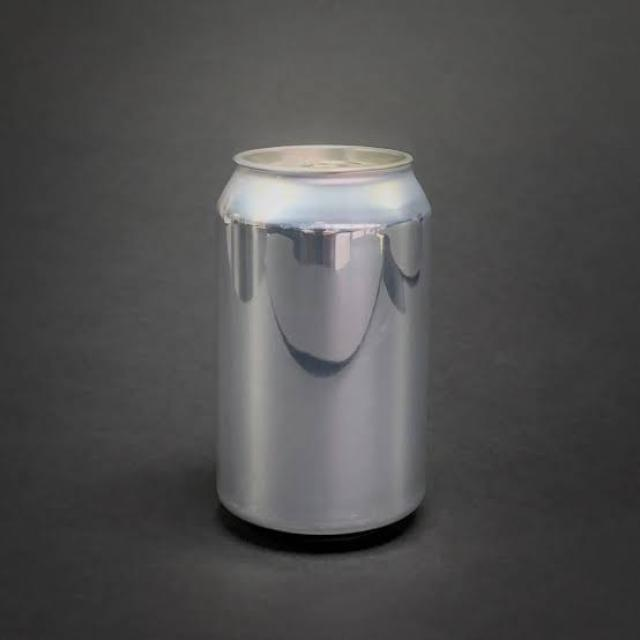can: (165, 125, 452, 570)
